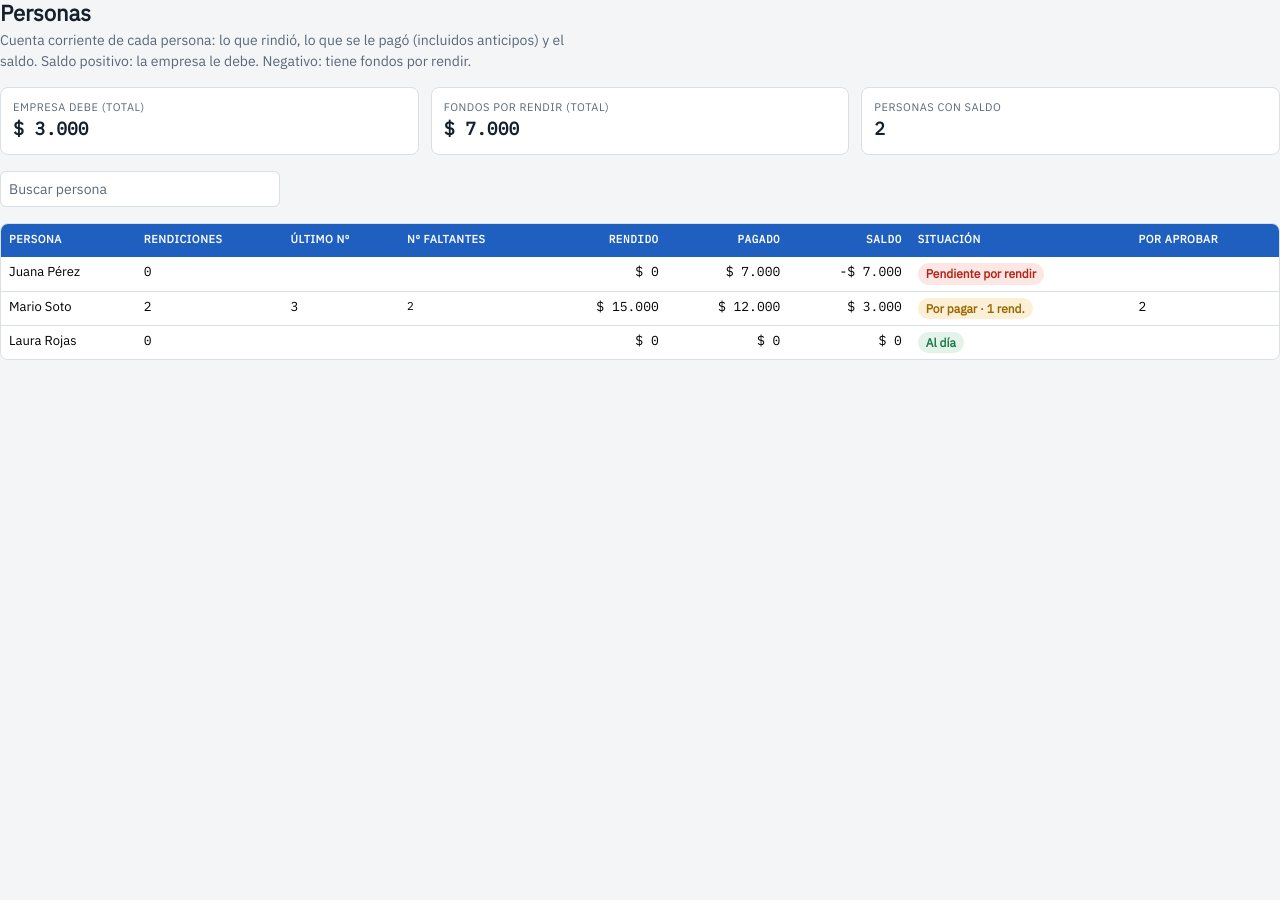
it: PersonasView › devolución: sin vincular rendiciones y avisa en negativo
Click the row "Juana Pérez 0 $ 0 $ 7.000 -$ 7.000 Pendiente por rendir".
click(640, 274)  # box [1,257,1279,291]
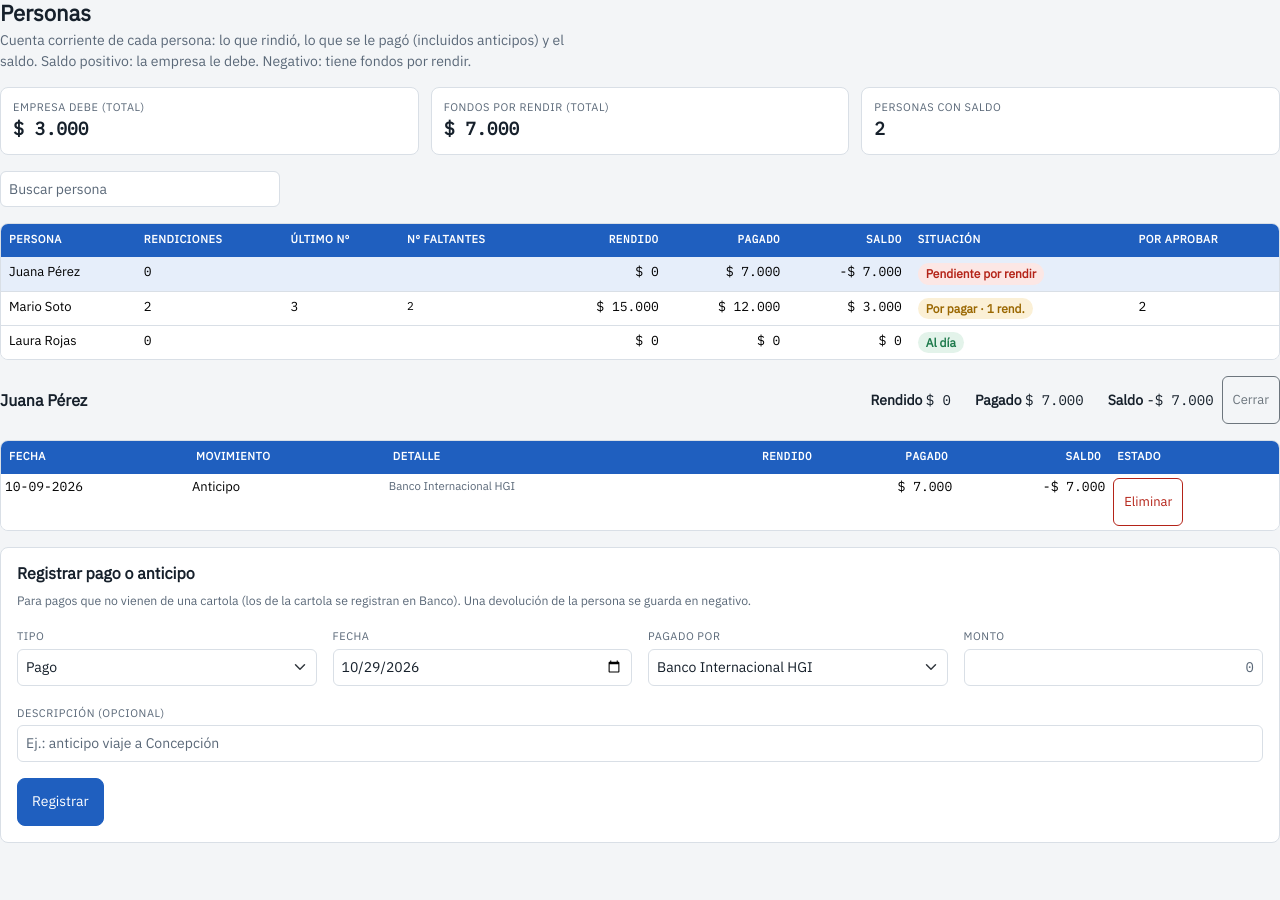
Expected: the field labelled "Monto" is empty, [964,649,1263,686]
Select "Devolución de la persona" in the dropdown labelled "Tipo" at (167, 667), box [17,649,316,686]
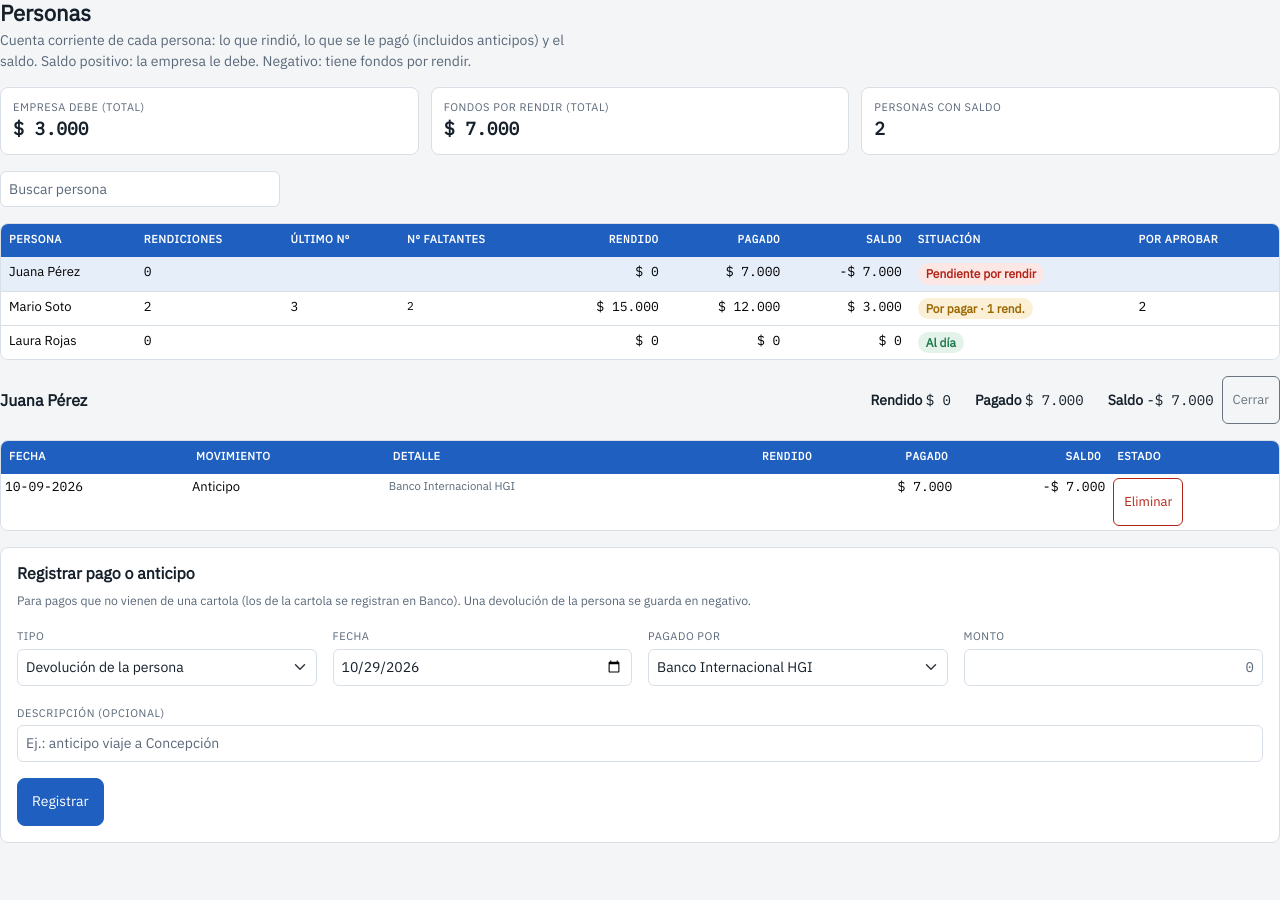
Type "1.500" into the field labelled "Monto".
click(1113, 667); type("1.500")  # box [964,649,1263,686]
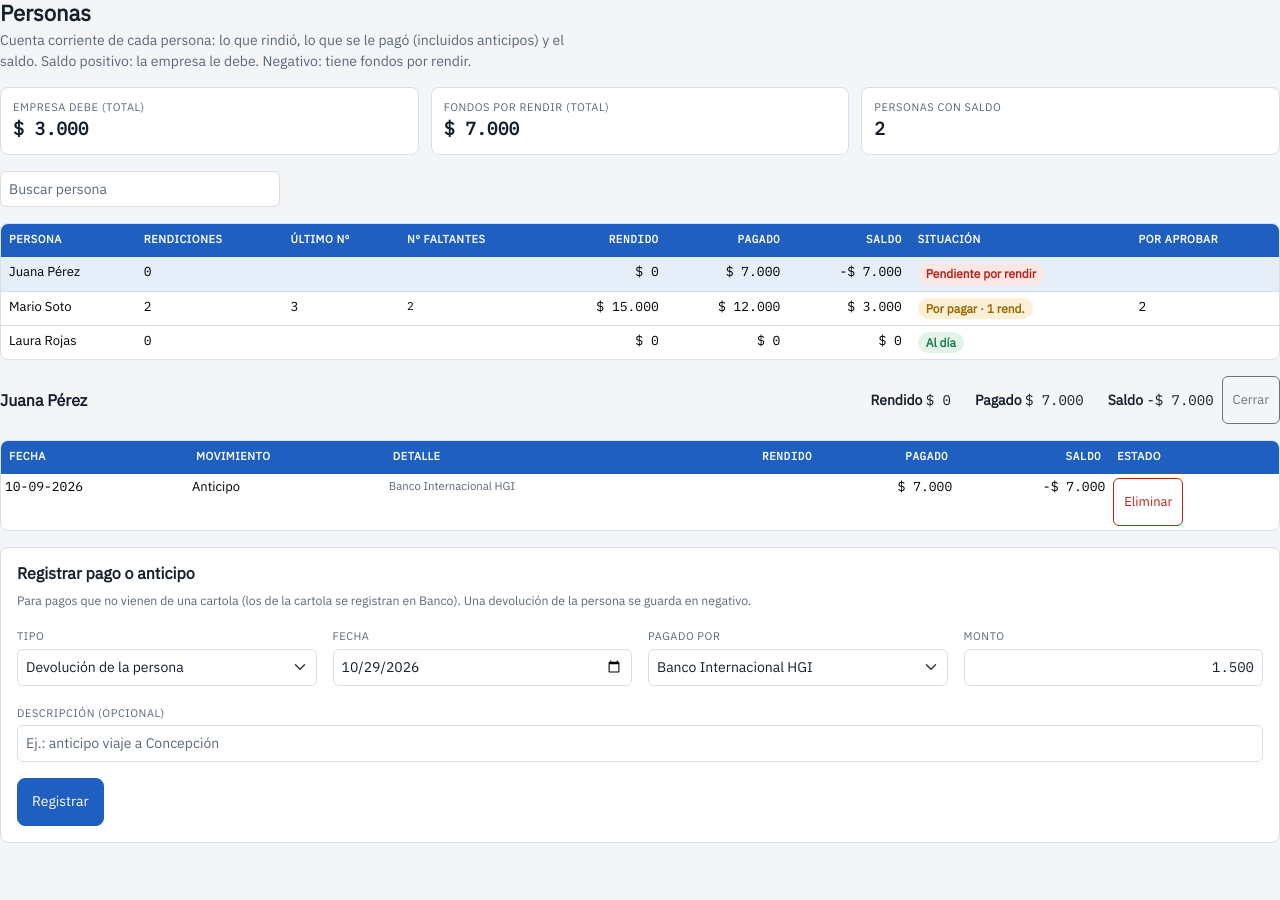
Submit the form, box [1,548,1279,842]
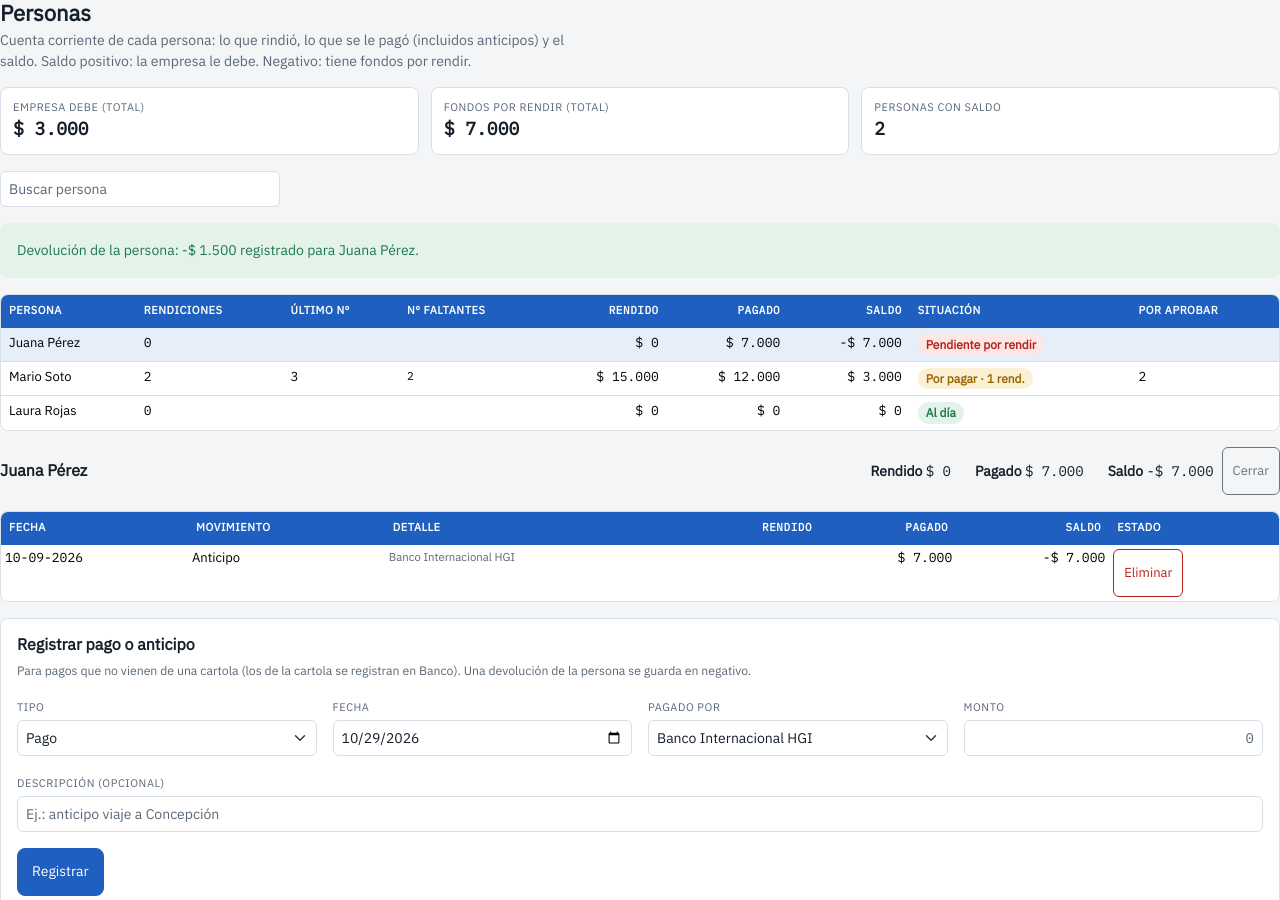
Expected: the message "Devolución de la persona: -$ 1.500 registrado para Juana Pérez." is shown, [0,223,1279,278]
